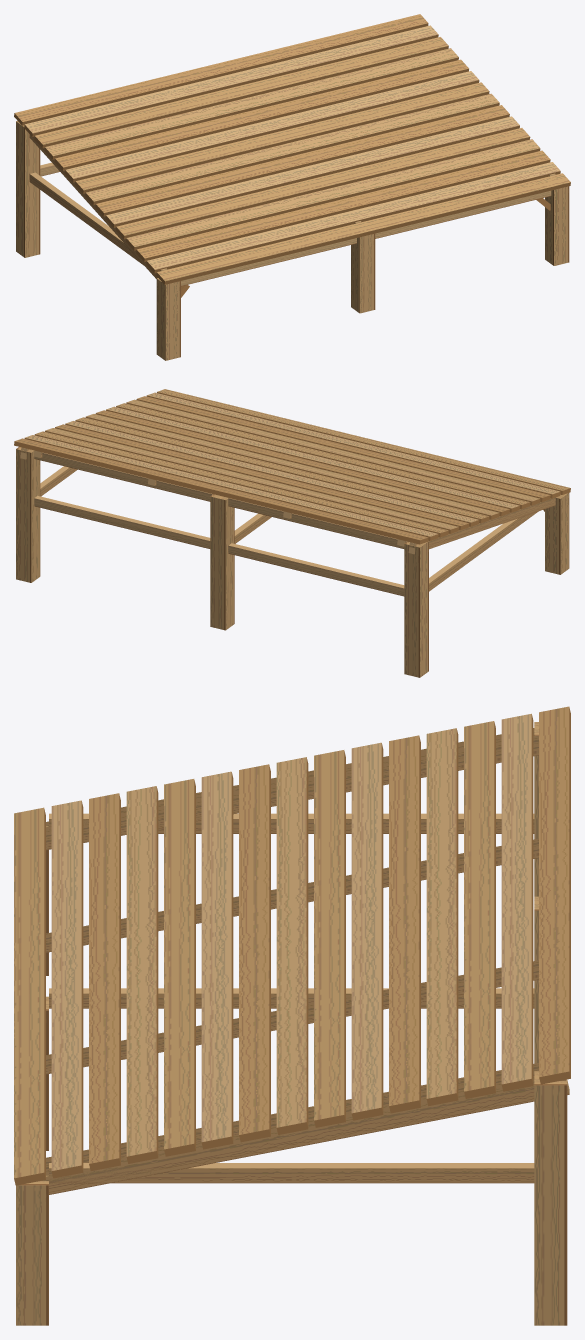
File: Prop_ProduceTable_TiltL2.fbx
3 renders of one model, top to bottom at view 1: azimuth 30°, elevation 25°; view 2: azimuth 150°, elevation 25°; view 3: azimuth 270°, elevation 25°, orthographic. The views are drawn at different scales.
Visible parts, largest first — view 1: Prop_ProduceTable_TiltL2; view 2: Prop_ProduceTable_TiltL2; view 3: Prop_ProduceTable_TiltL2.
Part boxes in pixels (x1,y1,x2,y2): Prop_ProduceTable_TiltL2: (14, 14, 570, 360); Prop_ProduceTable_TiltL2: (14, 389, 570, 677); Prop_ProduceTable_TiltL2: (14, 706, 570, 1325).
Bounding box in the file's own units: 4.2 × 1.37 × 2.71.
